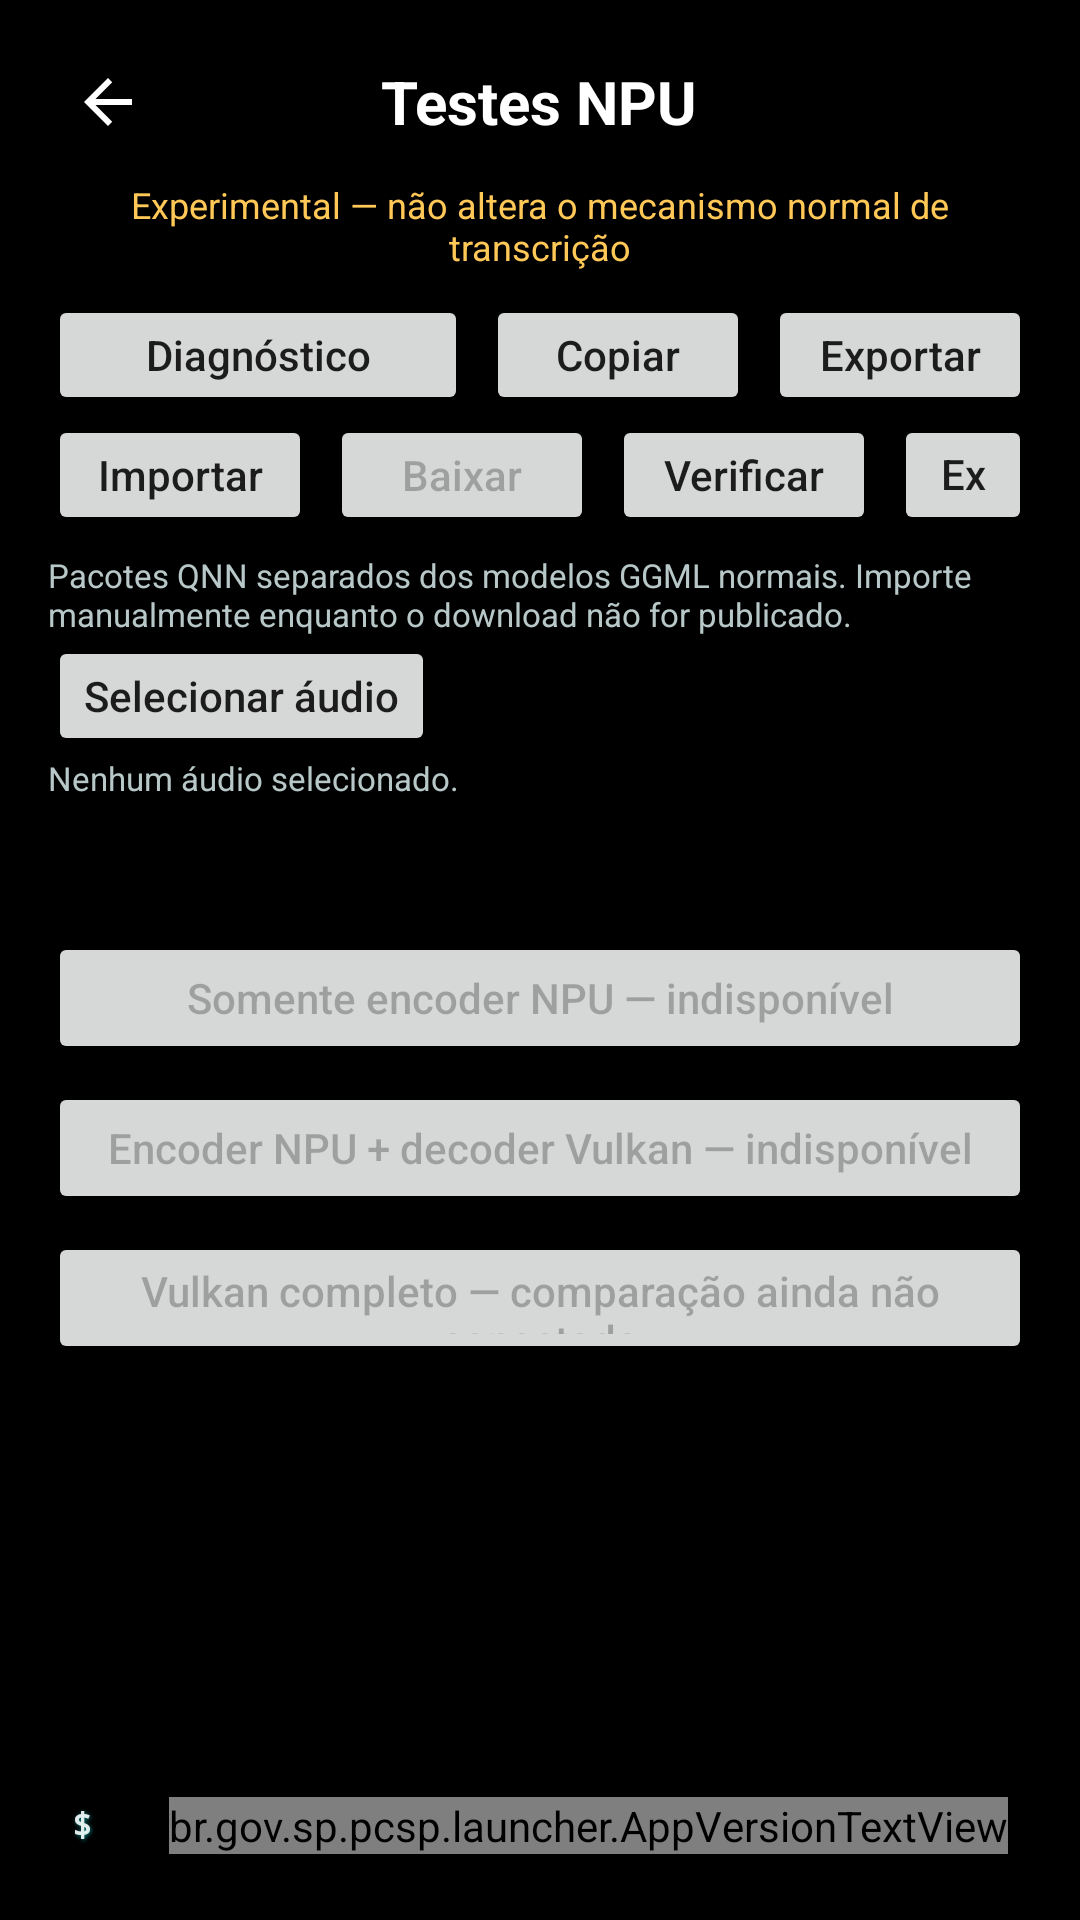

Screen size 1080px x 1920px. Icon name, then its box in pixels as (x1, y1, x2, y2):
Voltar: (84, 78, 132, 126)
